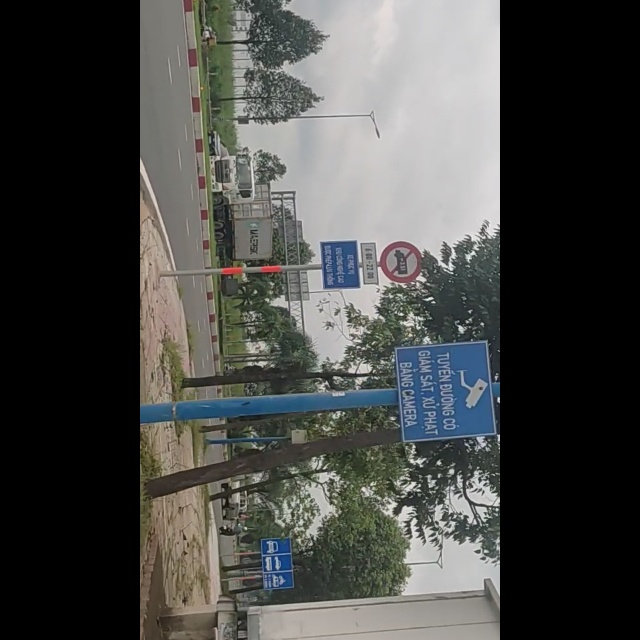bien_cam: (453, 344, 638, 440)
